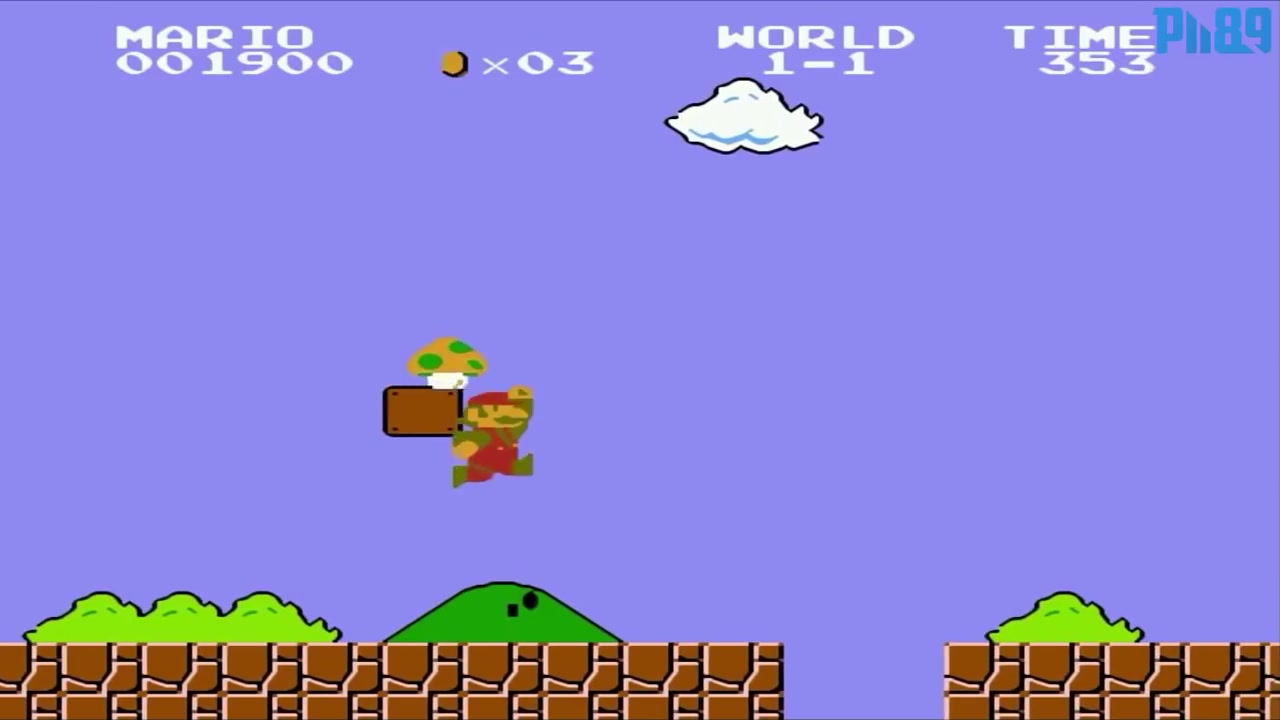mario: (447, 380, 540, 495)
